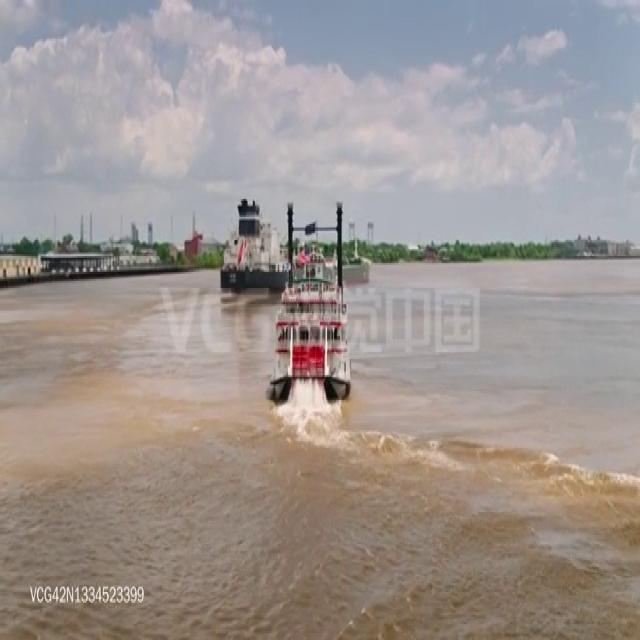cargoship: (216, 198, 366, 293)
passenger ship: (266, 230, 348, 402)
